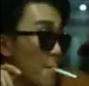Cigarette: (52, 66, 76, 78)
